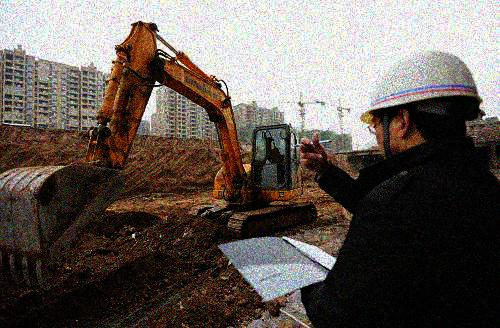helmet: (360, 48, 485, 158)
